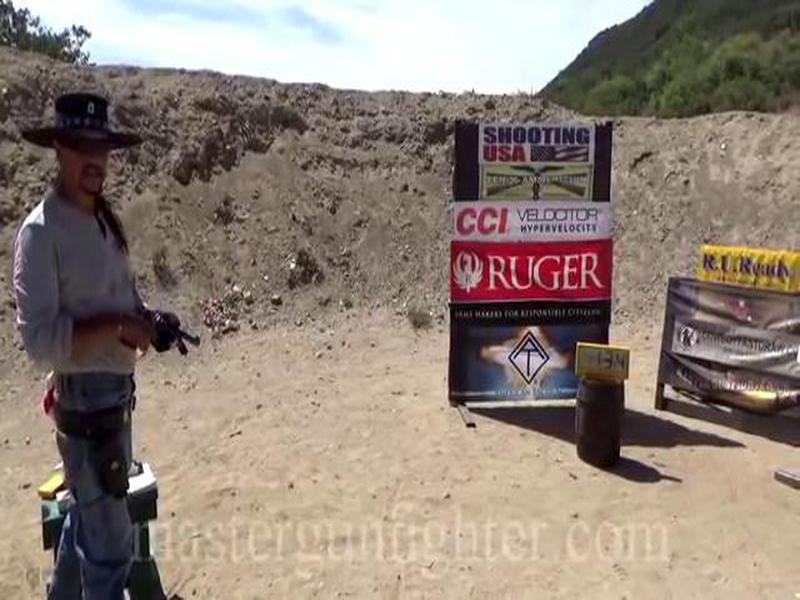Revolver: (136, 314, 223, 372)
